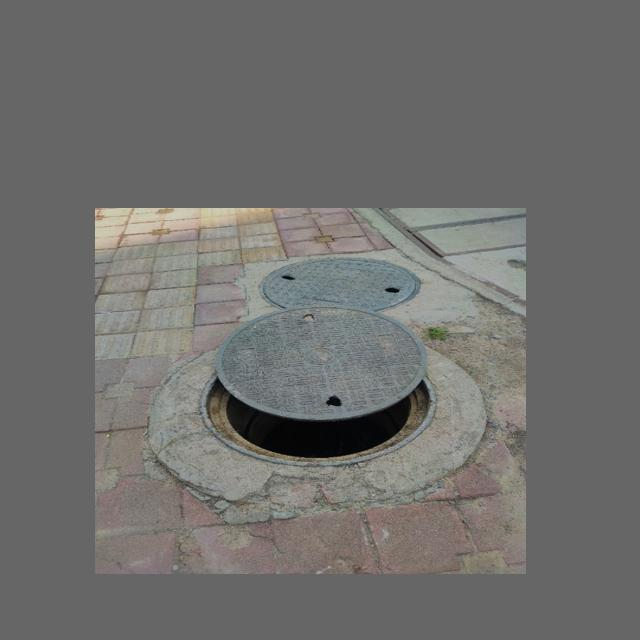good: (258, 256, 421, 314)
uncovered: (200, 304, 440, 467)
